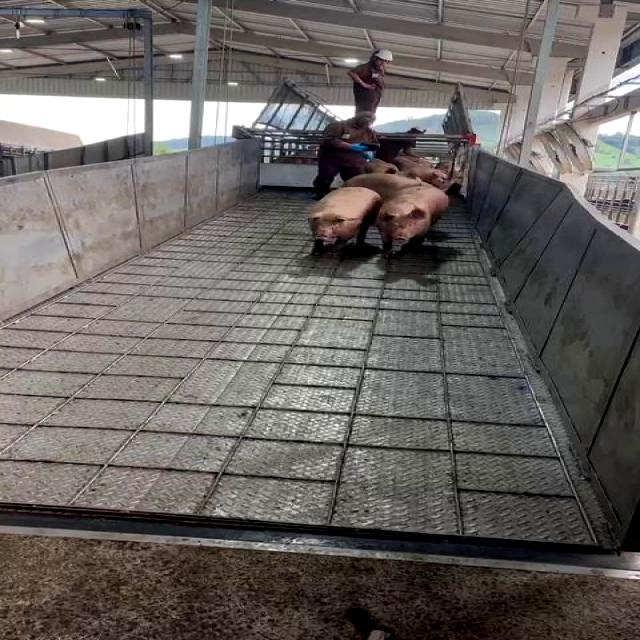pig: (376, 184, 449, 257), (307, 188, 383, 253)
